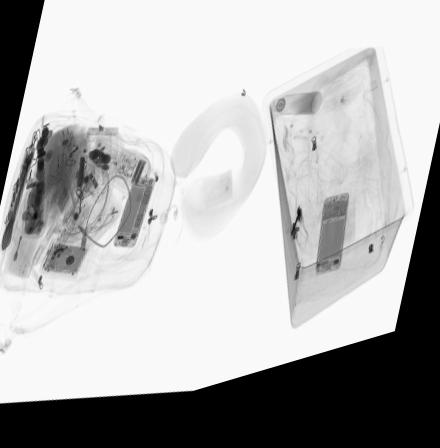Lighter: (54, 156, 60, 183)
